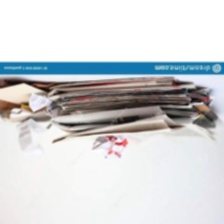news_paper: (46, 75, 223, 146)
